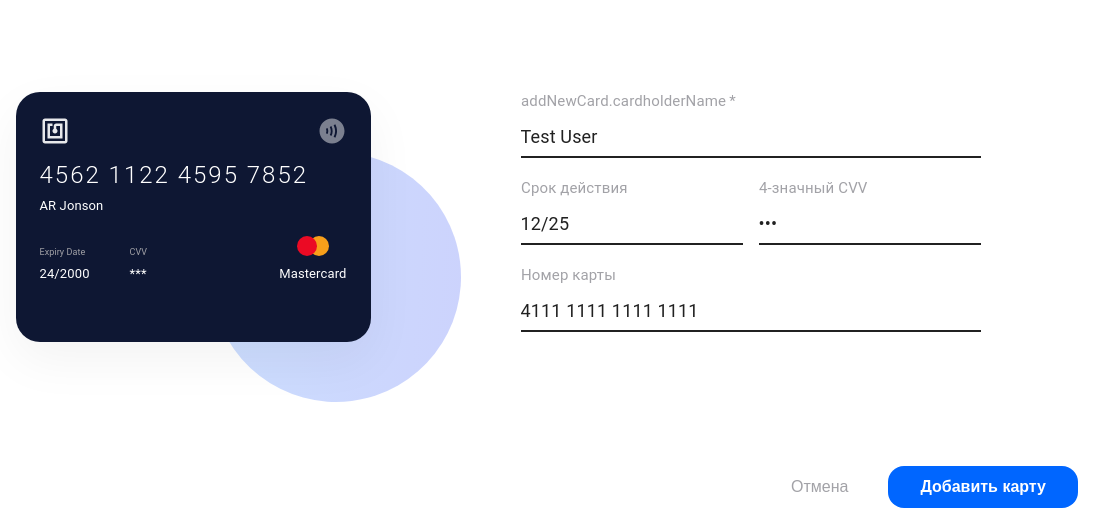
Scenario: AddNewCardPage › показывает ошибку 404 (пользователь не найден)
Click the button "Добавить карту": (983, 487) top-left (888, 466), bottom-right (1078, 508)
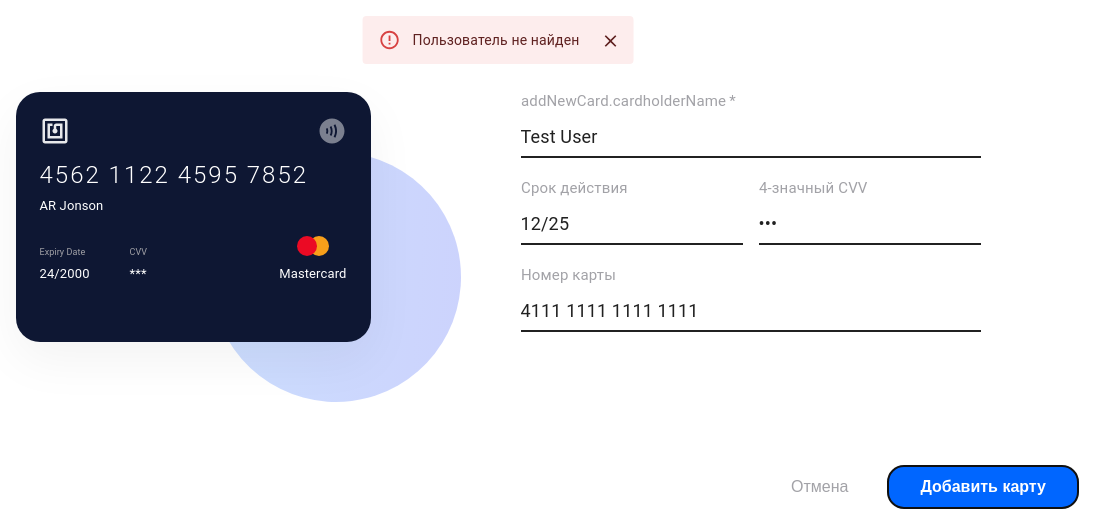
Expected: the text "Пользователь не найден" is shown, top-left (412, 32), bottom-right (579, 48)
